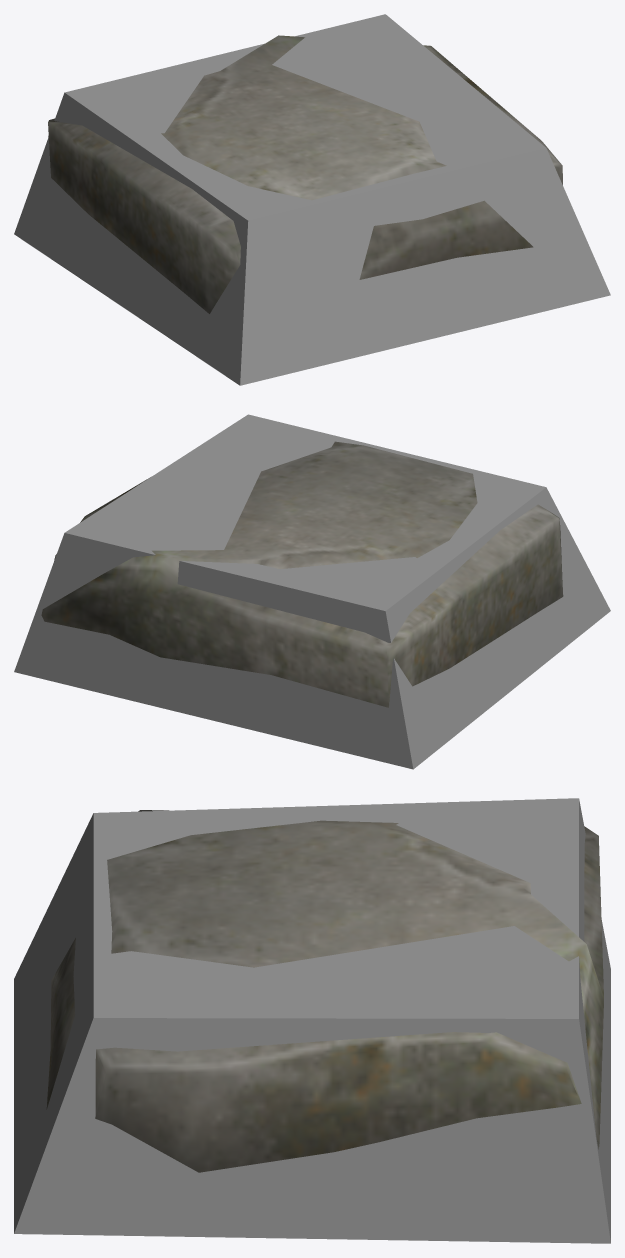
The model's file is Scene_Rock_TianShan_SuiShiTi_1.FBX.
3 views of the same model, one above another, from view 1: azimuth 30°, elevation 25°; view 2: azimuth 150°, elevation 25°; view 3: azimuth 270°, elevation 25° (orthographic). The views are drawn at different scales.
Visible parts, largest first — view 1: Scene_Rock_TianShan_SuiShiTi_1_Xzm, Scene_Rock_TianShan_SuiShiTi_1; view 2: Scene_Rock_TianShan_SuiShiTi_1_Xzm, Scene_Rock_TianShan_SuiShiTi_1; view 3: Scene_Rock_TianShan_SuiShiTi_1_Xzm, Scene_Rock_TianShan_SuiShiTi_1.
Boxes of the visible parts, x1,y1,x2,y2 form: Scene_Rock_TianShan_SuiShiTi_1_Xzm: (14, 14, 610, 385); Scene_Rock_TianShan_SuiShiTi_1: (48, 35, 562, 313); Scene_Rock_TianShan_SuiShiTi_1_Xzm: (14, 414, 610, 769); Scene_Rock_TianShan_SuiShiTi_1: (41, 441, 563, 707); Scene_Rock_TianShan_SuiShiTi_1_Xzm: (14, 798, 610, 1243); Scene_Rock_TianShan_SuiShiTi_1: (46, 810, 603, 1172).
Size of the model in its own units: 69.9 by 23.94 by 64.23.
